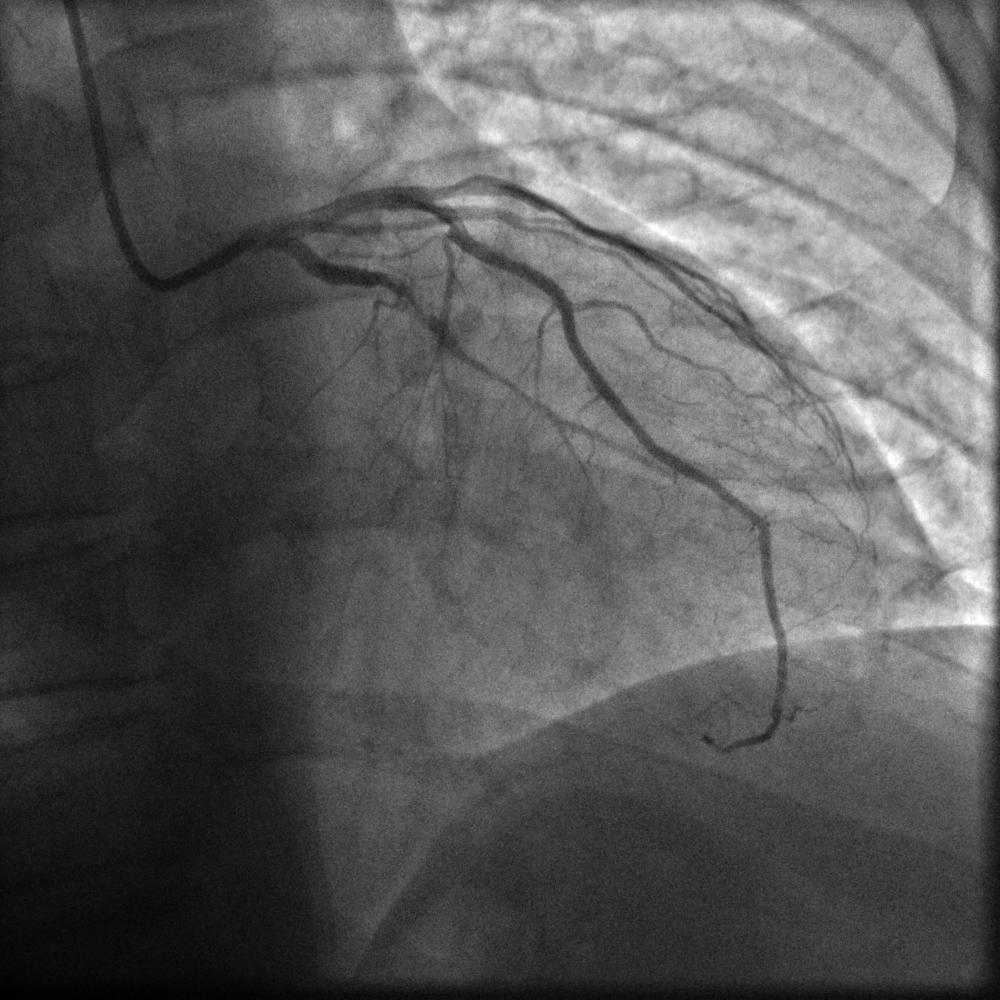Stenosis: (372, 267, 428, 322)
